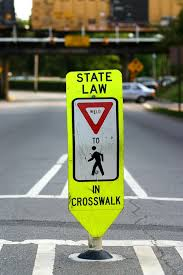yield_sign: (65, 73, 123, 235)
